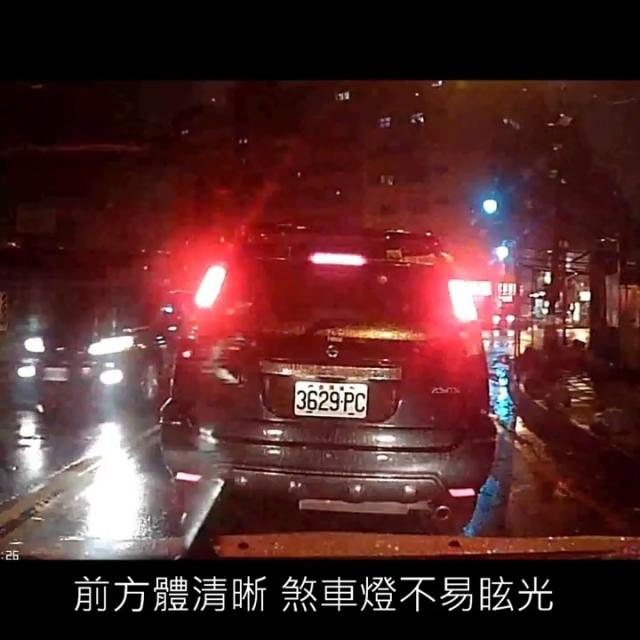Car: (158, 214, 493, 526), (16, 288, 190, 409)
